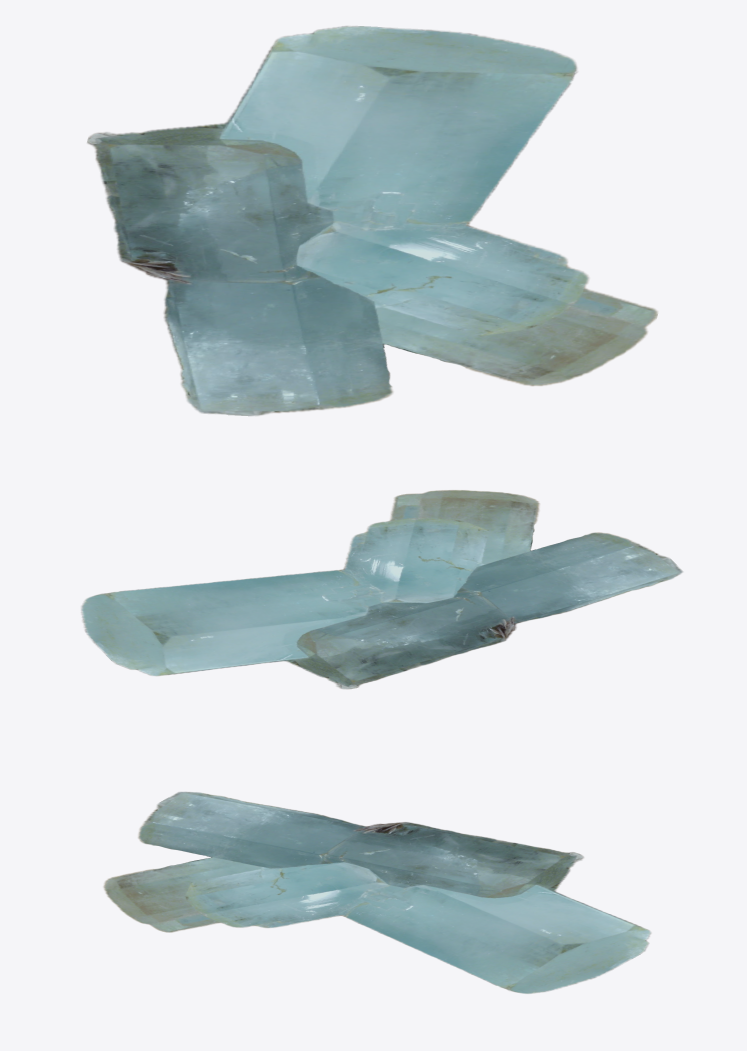
The model's file is joia1.glb.
3 views of the same model, one above another, from view 1: azimuth 30°, elevation 25°; view 2: azimuth 150°, elevation 25°; view 3: azimuth 270°, elevation 25° (orthographic). The views are drawn at different scales.
Visible parts, largest first — view 1: cristal; view 2: cristal; view 3: cristal.
Boxes of the visible parts, <box> form: cristal: <box>87,26,657,416</box>; cristal: <box>81,490,682,689</box>; cristal: <box>103,791,651,993</box>.
Size of the model in its own units: 0.1858 by 0 by 0.1972.
1 material, 1 textured.
